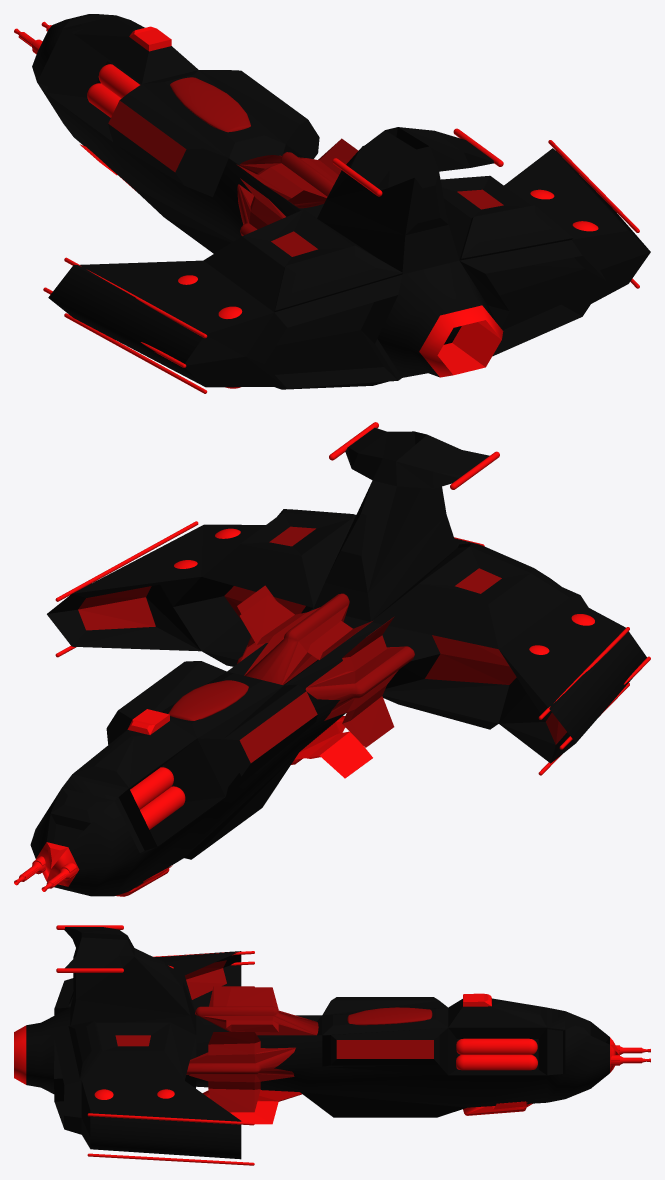
File: quadSolo.obj
The picture shows the model from 3 angles, top to bottom: view 1: azimuth 30°, elevation 25°; view 2: azimuth 150°, elevation 25°; view 3: azimuth 270°, elevation 25°; orthographic projection. The views are drawn at different scales.
Visible parts, largest first — view 1: ChamferCyl2134_Mesh.244, ChamferBox001.001_Mesh.247, Cham678rCyl012_Mesh.270, ChamferBox003_Mesh.253, Ch345ferCyl011_Mesh.269, Chamfe1233_Mesh.246, Ch34yl010_Mesh.268, ChamferCy12_Mesh.249; view 2: ChamferCyl2134_Mesh.244, ChamferBox001.001_Mesh.247, ChamferBox003_Mesh.253, ChamferBox002_Mesh.252, Cham678rCyl012_Mesh.270, Ch34yl010_Mesh.268, Ch345ferCyl011_Mesh.269, ChamferCy12_Mesh.249; view 3: ChamferCyl2134_Mesh.244, ChamferBox004_Mesh.254, ChamferBox001.001_Mesh.247, Chamfe34_Mesh.267, ChamferCyl0034345_Mesh.266, Cham678rCyl012_Mesh.270, ChamferBox002_Mesh.252, ChamferBox005_Mesh.263, ChamferCy12_Mesh.249, Ch12ferCyl006_Mesh.250, ChamferBox003_Mesh.253.
Boxes of the visible parts, bbox=[...] form: ChamferCyl2134_Mesh.244: bbox=[32, 14, 650, 389]; ChamferBox001.001_Mesh.247: bbox=[236, 138, 358, 208]; Cham678rCyl012_Mesh.270: bbox=[170, 77, 250, 132]; ChamferBox003_Mesh.253: bbox=[237, 178, 285, 235]; Ch345ferCyl011_Mesh.269: bbox=[98, 64, 139, 98]; Chamfe1233_Mesh.246: bbox=[64, 313, 207, 393]; Ch34yl010_Mesh.268: bbox=[87, 83, 121, 117]; ChamferCy12_Mesh.249: bbox=[548, 140, 639, 232]; ChamferCyl2134_Mesh.244: bbox=[30, 427, 646, 896]; ChamferBox001.001_Mesh.247: bbox=[240, 593, 372, 684]; ChamferBox003_Mesh.253: bbox=[305, 617, 414, 747]; ChamferBox002_Mesh.252: bbox=[291, 716, 372, 778]; Cham678rCyl012_Mesh.270: bbox=[168, 680, 248, 720]; Ch34yl010_Mesh.268: bbox=[140, 786, 185, 829]; Ch345ferCyl011_Mesh.269: bbox=[130, 767, 173, 809]; ChamferCy12_Mesh.249: bbox=[55, 521, 198, 601]; ChamferCyl2134_Mesh.244: bbox=[14, 927, 619, 1159]; ChamferBox004_Mesh.254: bbox=[186, 1032, 295, 1112]; ChamferBox001.001_Mesh.247: bbox=[195, 987, 318, 1035]; Chamfe34_Mesh.267: bbox=[456, 1054, 537, 1070]; ChamferCyl0034345_Mesh.266: bbox=[456, 1038, 537, 1054]; Cham678rCyl012_Mesh.270: bbox=[347, 1007, 432, 1025]; ChamferBox002_Mesh.252: bbox=[202, 1090, 301, 1124]; ChamferBox005_Mesh.263: bbox=[463, 1101, 532, 1115]; ChamferCy12_Mesh.249: bbox=[87, 1113, 254, 1125]; Ch12ferCyl006_Mesh.250: bbox=[87, 1153, 254, 1165]; ChamferBox003_Mesh.253: bbox=[209, 986, 254, 1006].
Size of the model in its own units: 1.87 by 0.8342 by 2.69.
